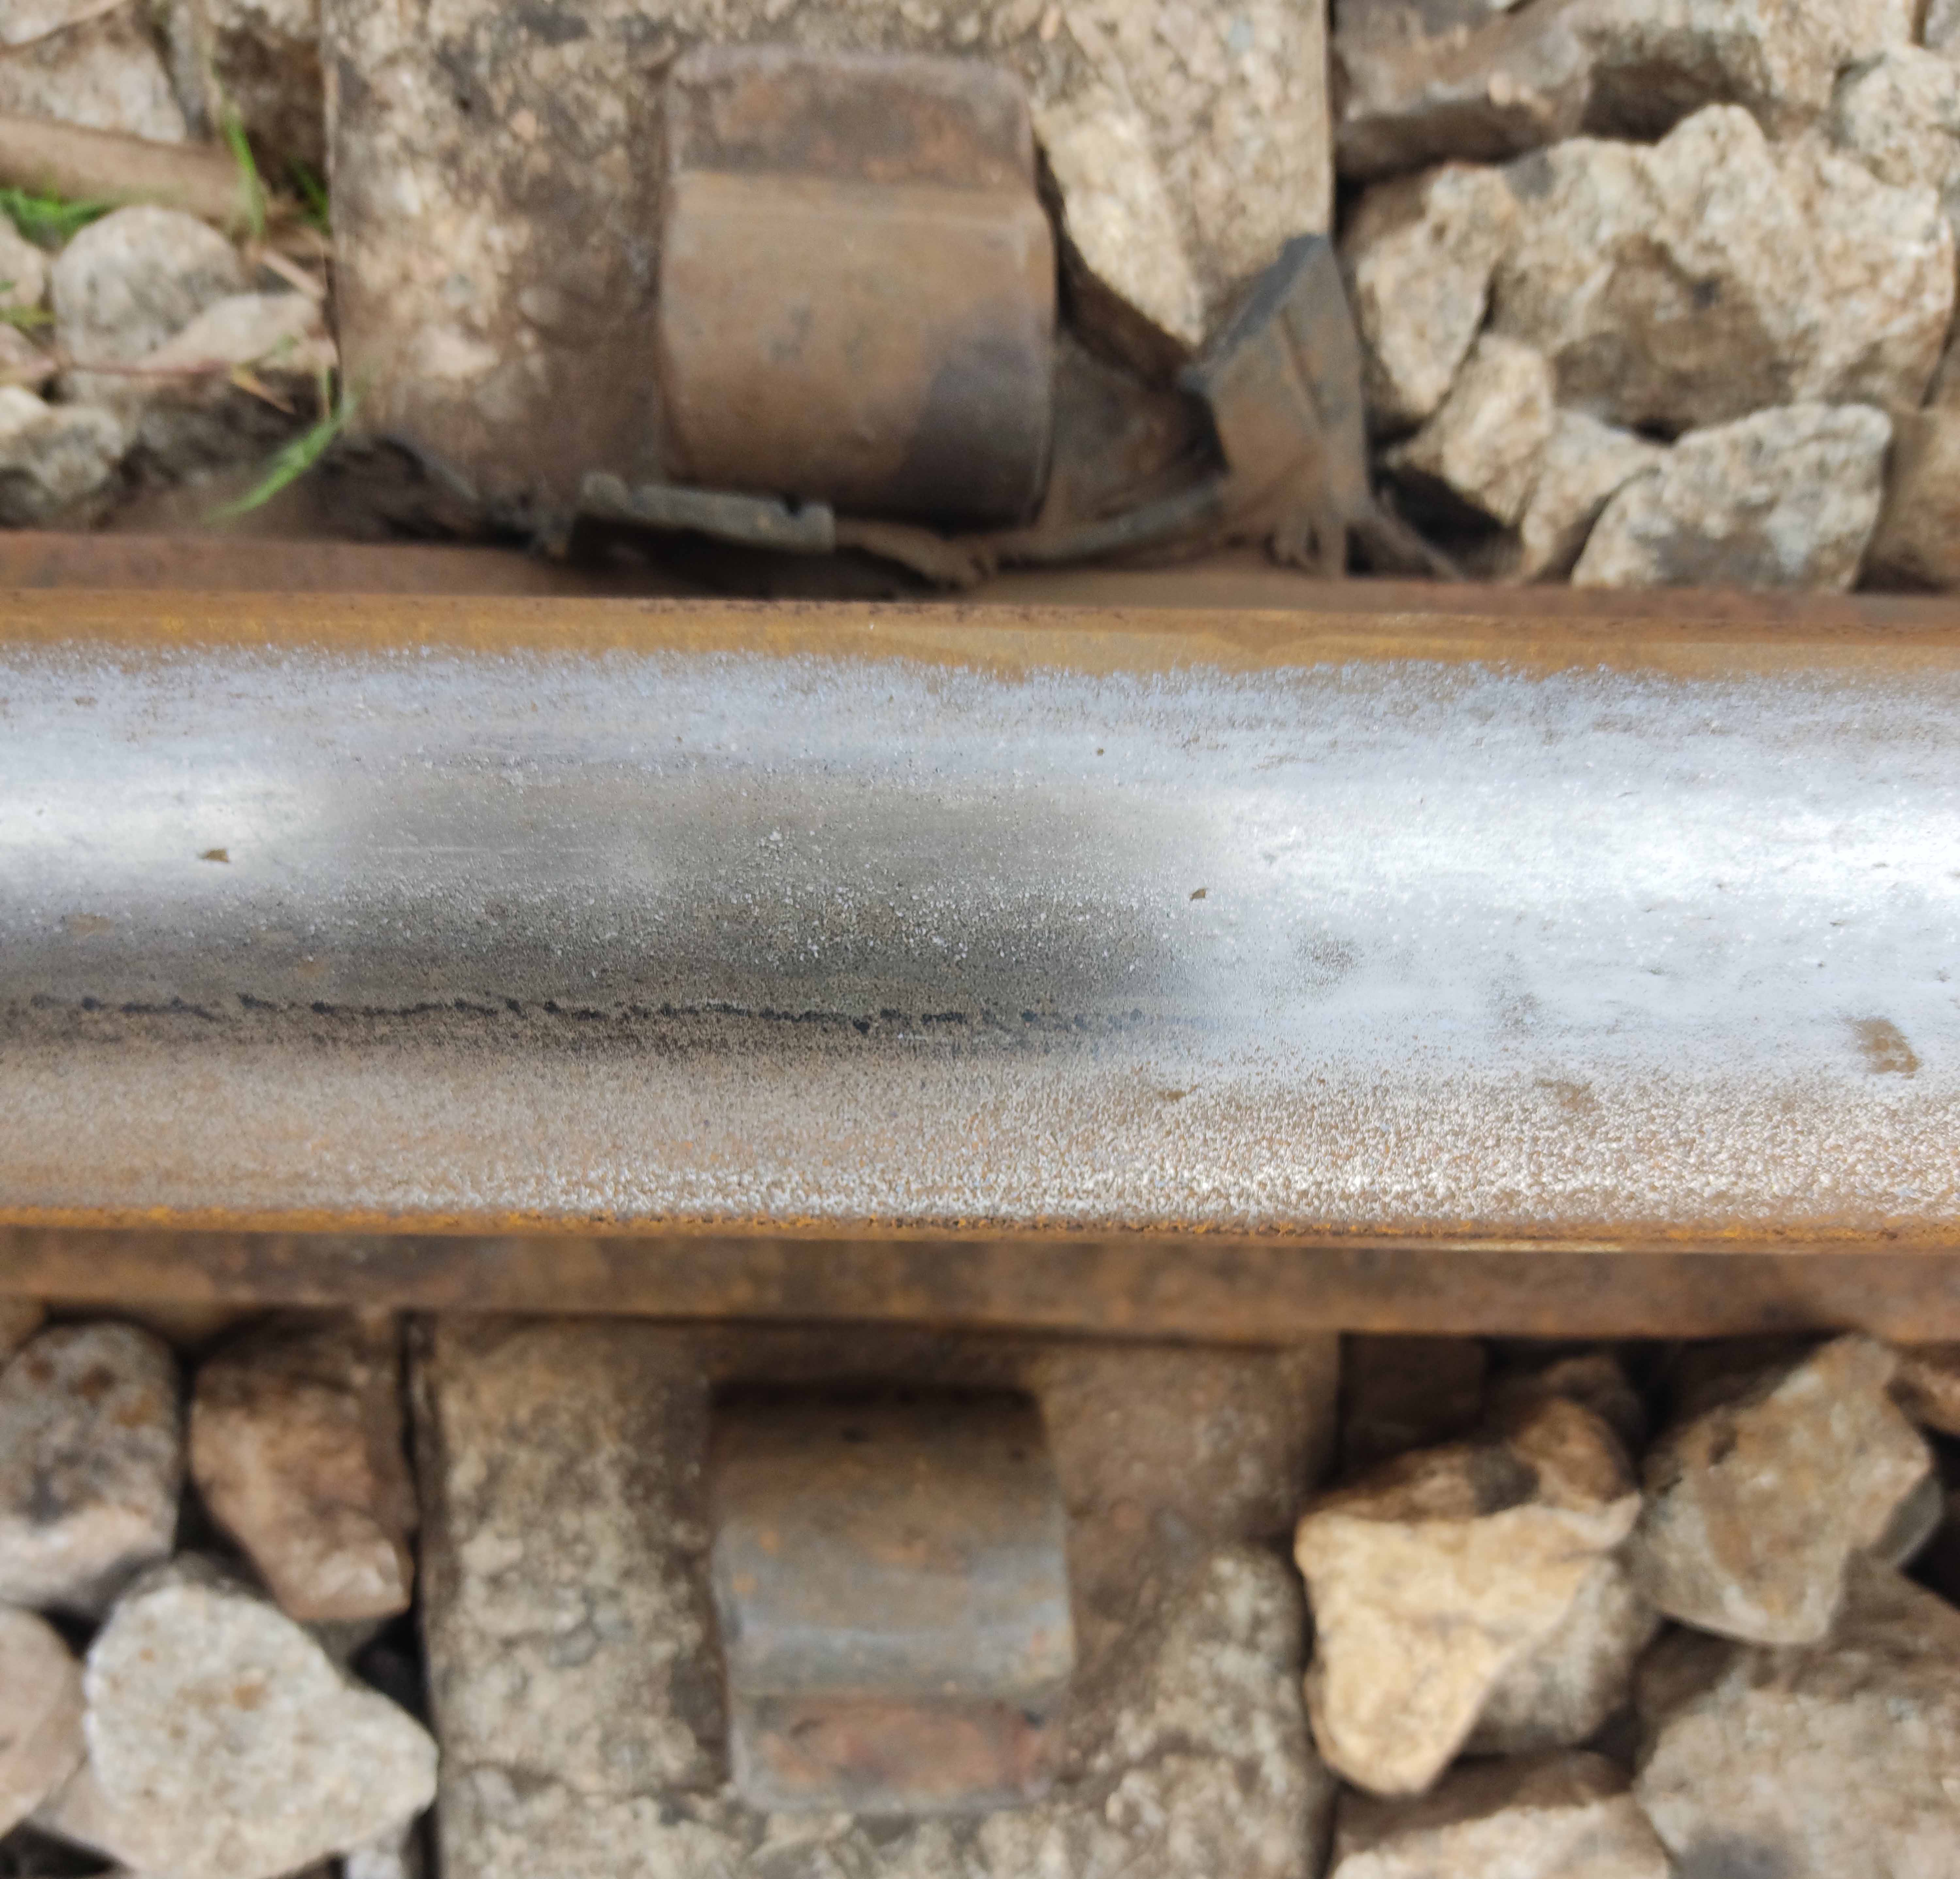error1: (584, 49, 1108, 591), (691, 1358, 1174, 1778)
